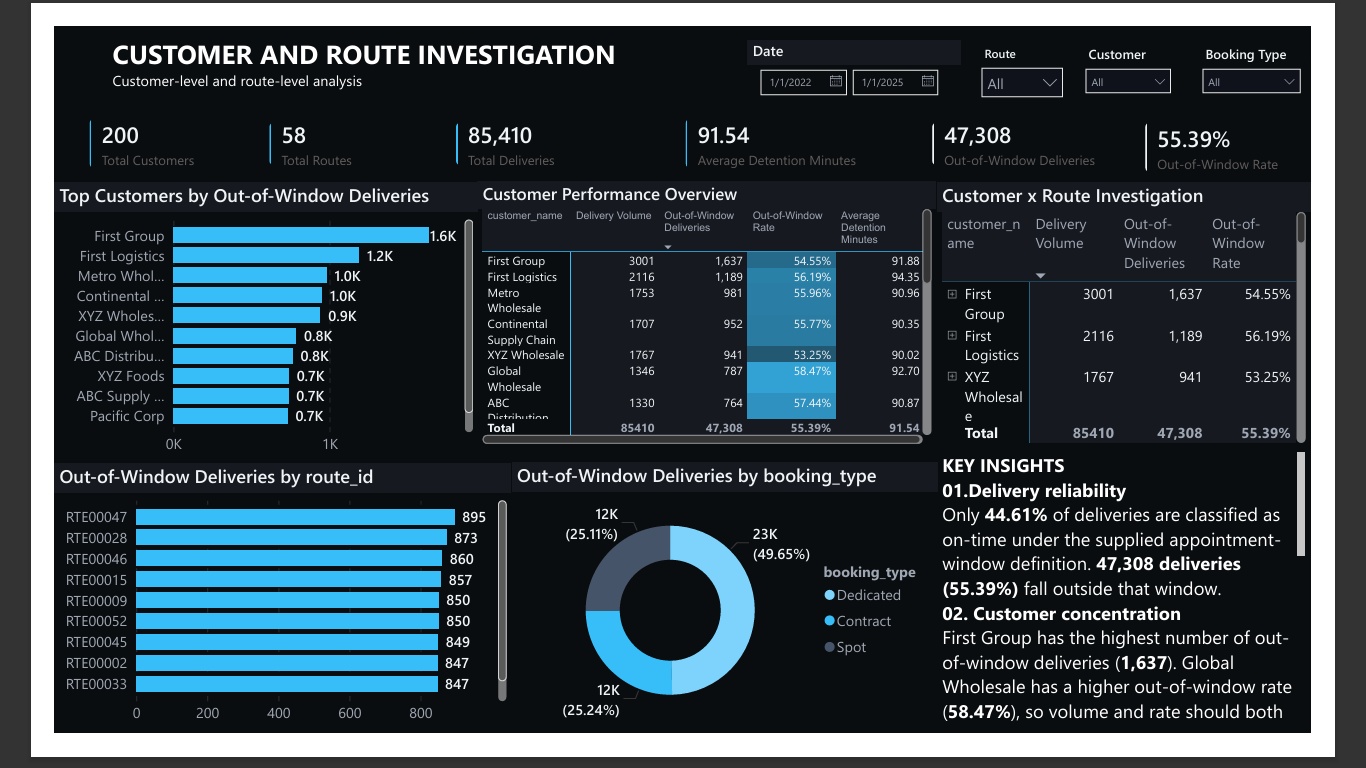

The dashboard page shown, as its layout file describes it:
{"tool":"powerbi","page":{"name":"CUSTOMER AND ROUTE INVESTIGATION","canvas":[1280,720],"ordinal":1},"visuals":[{"type":"textbox","box":[53.7,4.1,532.6,72.9],"z":0},{"type":"slicer","fields":{"Values":["loads.booking_type"]},"box":[1158.6,14.3,120,67.1],"z":1000},{"type":"slicer","fields":{"Values":["customers.customer_name"]},"box":[1040,14.3,107.1,57.1],"z":2000},{"type":"cardVisual","fields":{"Data":["customers.Total Customers"]},"box":[19.3,77.1,172,84],"z":3000},{"type":"cardVisual","fields":{"Data":["routes.Total Routes"]},"box":[202.3,81.2,170.7,77.1],"z":4000},{"type":"cardVisual","fields":{"Data":["delivery_events.Average Detention Minutes"]},"box":[626.2,77.1,260.1,84],"z":5000},{"type":"cardVisual","fields":{"Data":["delivery_events.Total Deliveries"]},"box":[392.3,81.2,221.6,77.1],"z":6000},{"type":"clusteredBarChart","title":"Top Customers by Out-of-Window Deliveries","fields":{"Y":["delivery_events.Out-of-Window Deliveries"],"Category":["customers.customer_name"]},"box":[0,158.6,431.4,287.1],"z":7000},{"type":"pivotTable","title":"Customer Performance Overview","fields":{"Rows":["customers.customer_name"],"Values":["delivery_events.Delivery Volume","delivery_events.Out-of-Window Deliveries","delivery_events.Out-of-Window Rate","delivery_events.Average Detention Minutes"]},"box":[431,157.7,467.2,272.1],"z":8000},{"type":"cardVisual","fields":{"Data":["delivery_events.Out-of-Window Deliveries"]},"box":[876.7,81.2,217.5,77.1],"z":9000},{"type":"cardVisual","fields":{"Data":["delivery_events.Out-of-Window Rate"]},"box":[1094.2,81.2,184.4,84],"z":10000},{"type":"clusteredBarChart","fields":{"Category":["routes.route_id"],"Y":["delivery_events.Out-of-Window Deliveries"]},"box":[0,445.5,464.7,274.5],"z":11000},{"type":"pivotTable","title":"Customer x Route Investigation","fields":{"Rows":["customers.customer_name","loads.route_id"],"Values":["delivery_events.Delivery Volume","delivery_events.Out-of-Window Deliveries","delivery_events.Out-of-Window Rate"]},"box":[898.6,158.6,380,270],"z":12000},{"type":"donutChart","fields":{"Category":["loads.booking_type"],"Y":["delivery_events.Out-of-Window Deliveries"]},"box":[465.7,444.3,432.9,275.7],"z":13000},{"type":"slicer","title":"Date","fields":{"Values":["DateTable.Month Year"]},"box":[705.7,14.3,217.1,68.6],"z":14000},{"type":"slicer","fields":{"Values":["loads.route_id"]},"box":[934.3,14.3,102.9,62.9],"z":15000},{"type":"textbox","box":[898.6,428.6,380,291.4],"z":16000}]}

Visuals, with their boxes in screenshot pixels (x1, y1, x2, y2), scaled from the page's 1280x720 canvas onto the 1366x768 screenshot:
textbox: bbox(57, 4, 626, 82)
slicer - loads.booking_type: bbox(1236, 15, 1365, 87)
slicer - customers.customer_name: bbox(1110, 15, 1224, 76)
cardVisual - customers.Total Customers: bbox(21, 82, 204, 172)
cardVisual - routes.Total Routes: bbox(216, 87, 398, 169)
cardVisual - delivery_events.Average Detention Minutes: bbox(668, 82, 946, 172)
cardVisual - delivery_events.Total Deliveries: bbox(419, 87, 655, 169)
"Top Customers by Out-of-Window Deliveries" clusteredBarChart: bbox(0, 169, 460, 475)
"Customer Performance Overview" pivotTable: bbox(460, 168, 959, 458)
cardVisual - delivery_events.Out-of-Window Deliveries: bbox(936, 87, 1168, 169)
cardVisual - delivery_events.Out-of-Window Rate: bbox(1168, 87, 1365, 176)
clusteredBarChart - routes.route_id x delivery_events.Out-of-Window Deliveries: bbox(0, 475, 496, 767)
"Customer x Route Investigation" pivotTable: bbox(959, 169, 1365, 457)
donutChart - loads.booking_type x delivery_events.Out-of-Window Deliveries: bbox(497, 474, 959, 767)
"Date" slicer: bbox(753, 15, 985, 88)
slicer - loads.route_id: bbox(997, 15, 1107, 82)
textbox: bbox(959, 457, 1365, 767)
